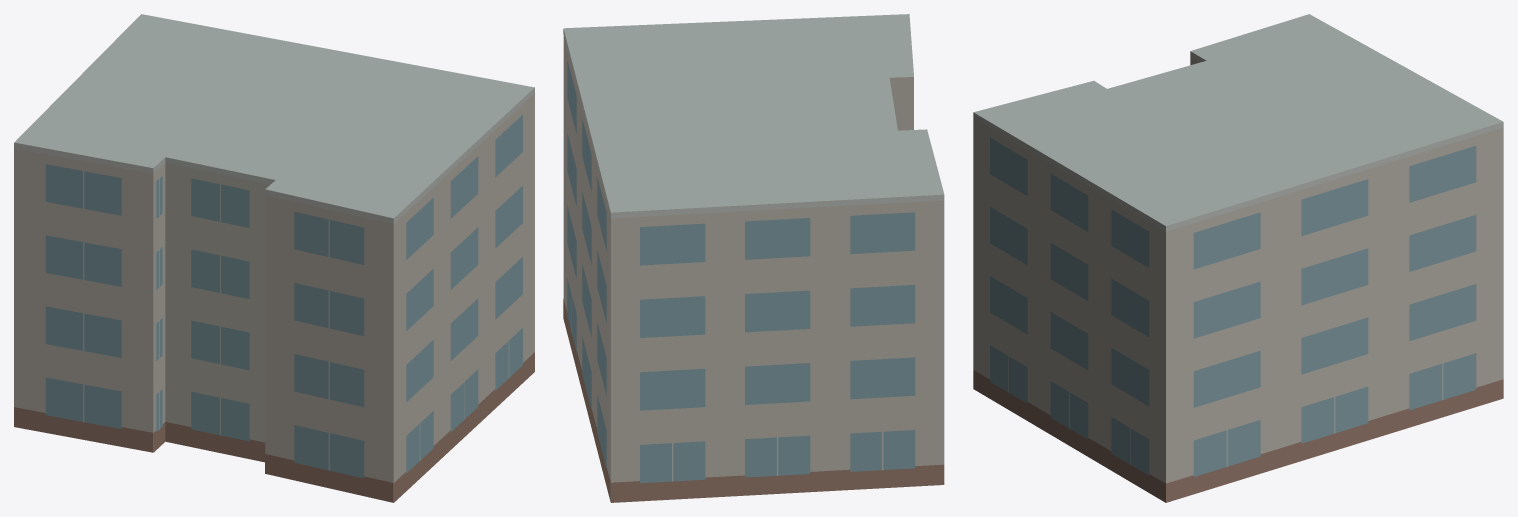
The model's file is survey-upis-32912190.glb.
3 renders of one model, left to right at view 1: azimuth 30°, elevation 25°; view 2: azimuth 150°, elevation 25°; view 3: azimuth 270°, elevation 25°, orthographic. The views are drawn at different scales.
Visible parts, largest first — view 1: survey-upis-32912190.tmp; view 2: survey-upis-32912190.tmp; view 3: survey-upis-32912190.tmp.
Boxes of the visible parts, box(x1,y1,x2,y2) form: survey-upis-32912190.tmp: box(14, 14, 534, 502); survey-upis-32912190.tmp: box(563, 14, 944, 502); survey-upis-32912190.tmp: box(973, 14, 1503, 502).
Size of the model in its own units: 20.07 by 12.2 by 21.2.
